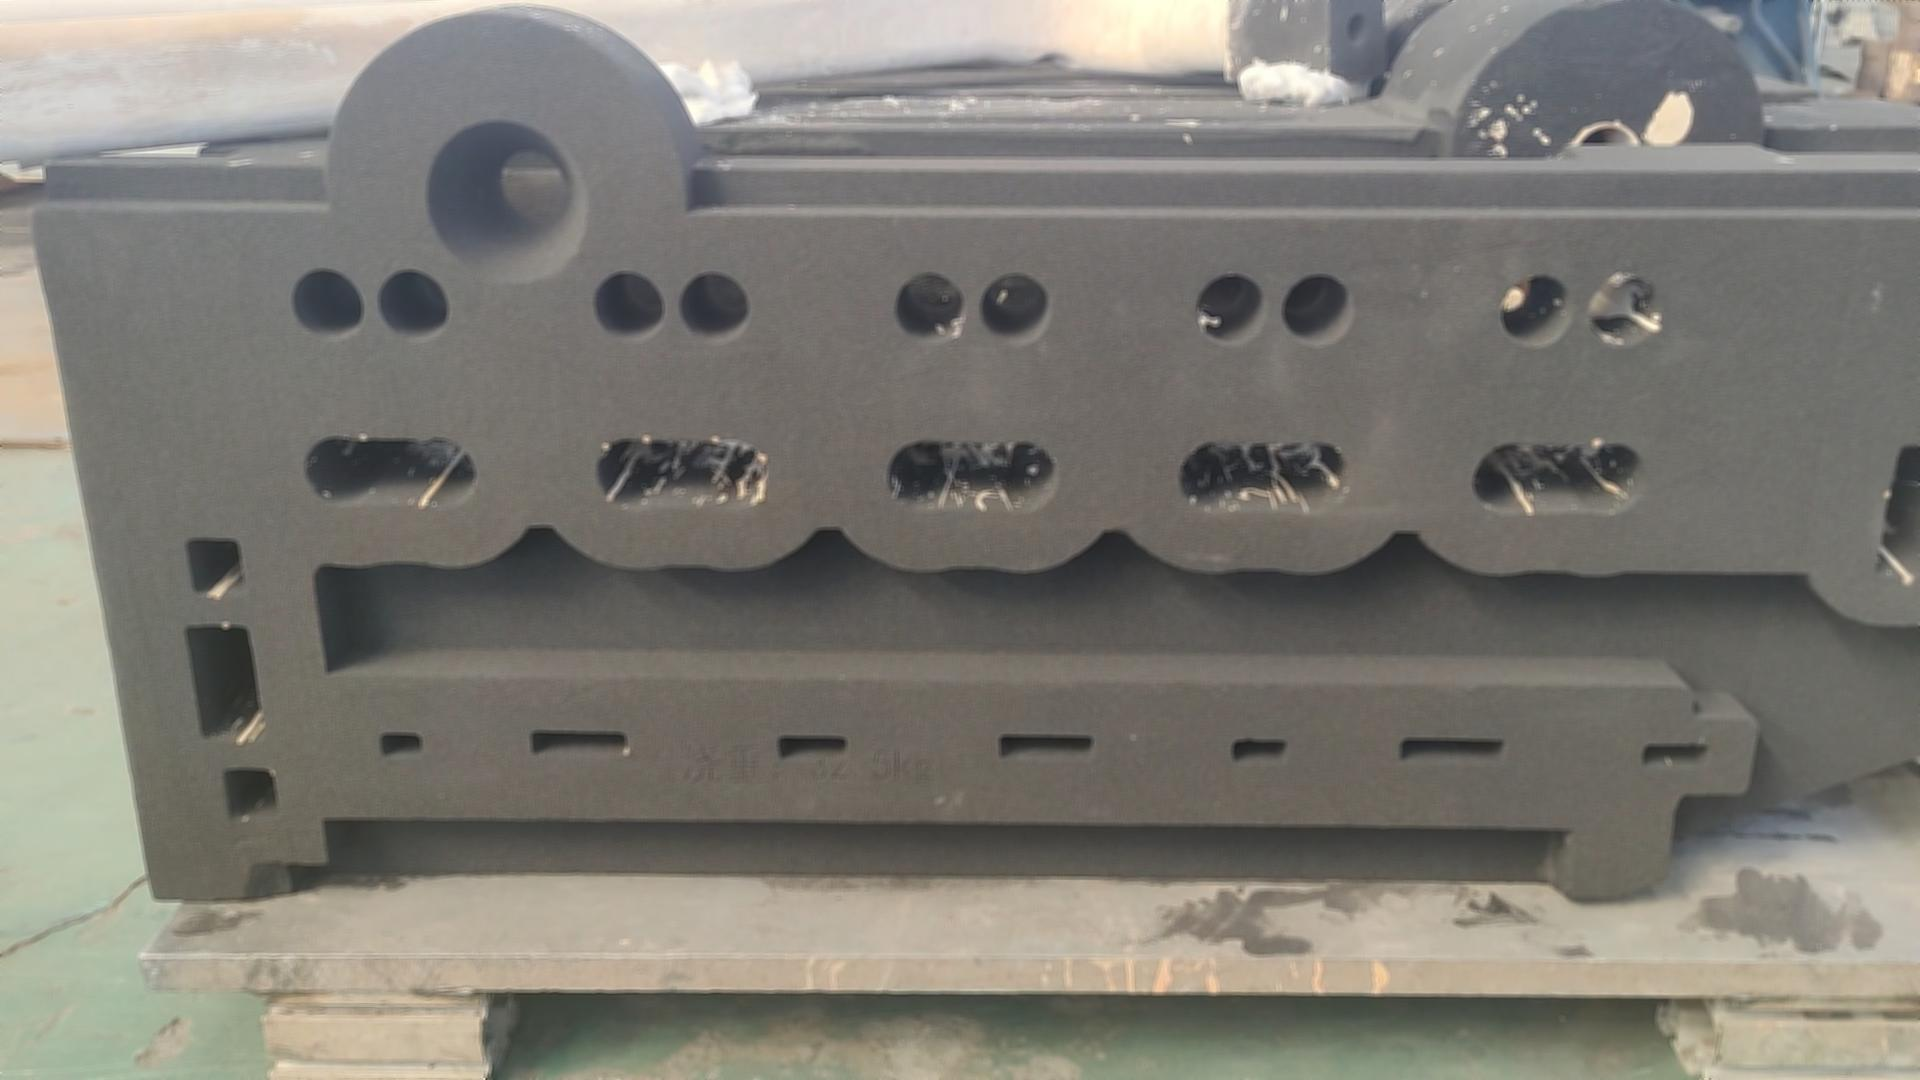pouring hole: (423, 119, 585, 284)
